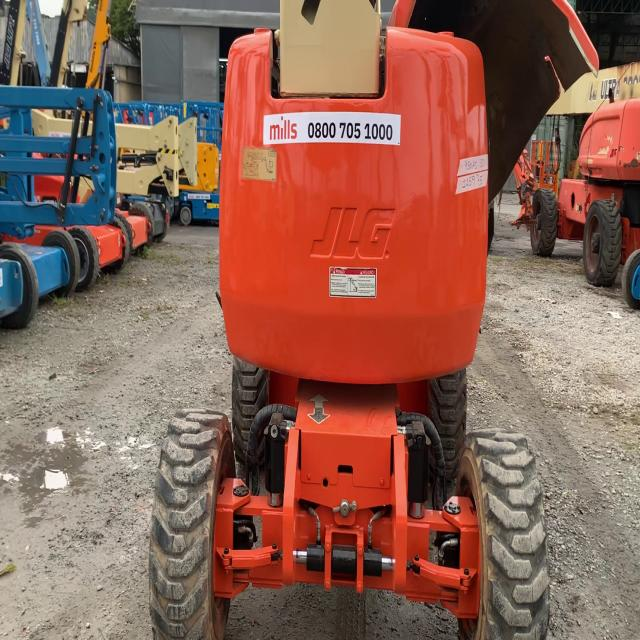Adesivo Longo: (262, 110, 405, 149)
